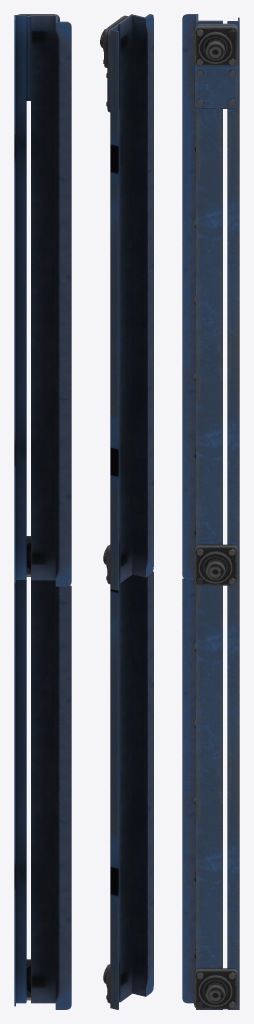
Rendered from conveyor3.dae.
3 views of the same model, side by side, from view 1: azimuth 90°, elevation 25°; view 2: azimuth 150°, elevation 25°; view 3: azimuth 270°, elevation 25° (orthographic).
Parts seen in each view (by area): view 1: Conveyor01Frame02_Conveyor_0.014; view 2: Conveyor01Frame02_Conveyor_0.014; view 3: Conveyor01Frame02_Conveyor_0.014.
Boxes of the visible parts, left/top/right/bottom form: Conveyor01Frame02_Conveyor_0.014: left=14, top=14, right=71, bottom=1009; Conveyor01Frame02_Conveyor_0.014: left=100, top=14, right=153, bottom=1009; Conveyor01Frame02_Conveyor_0.014: left=182, top=14, right=239, bottom=1009.
Size of the model in its own units: 0.1273 by 0.1845 by 3.5.
